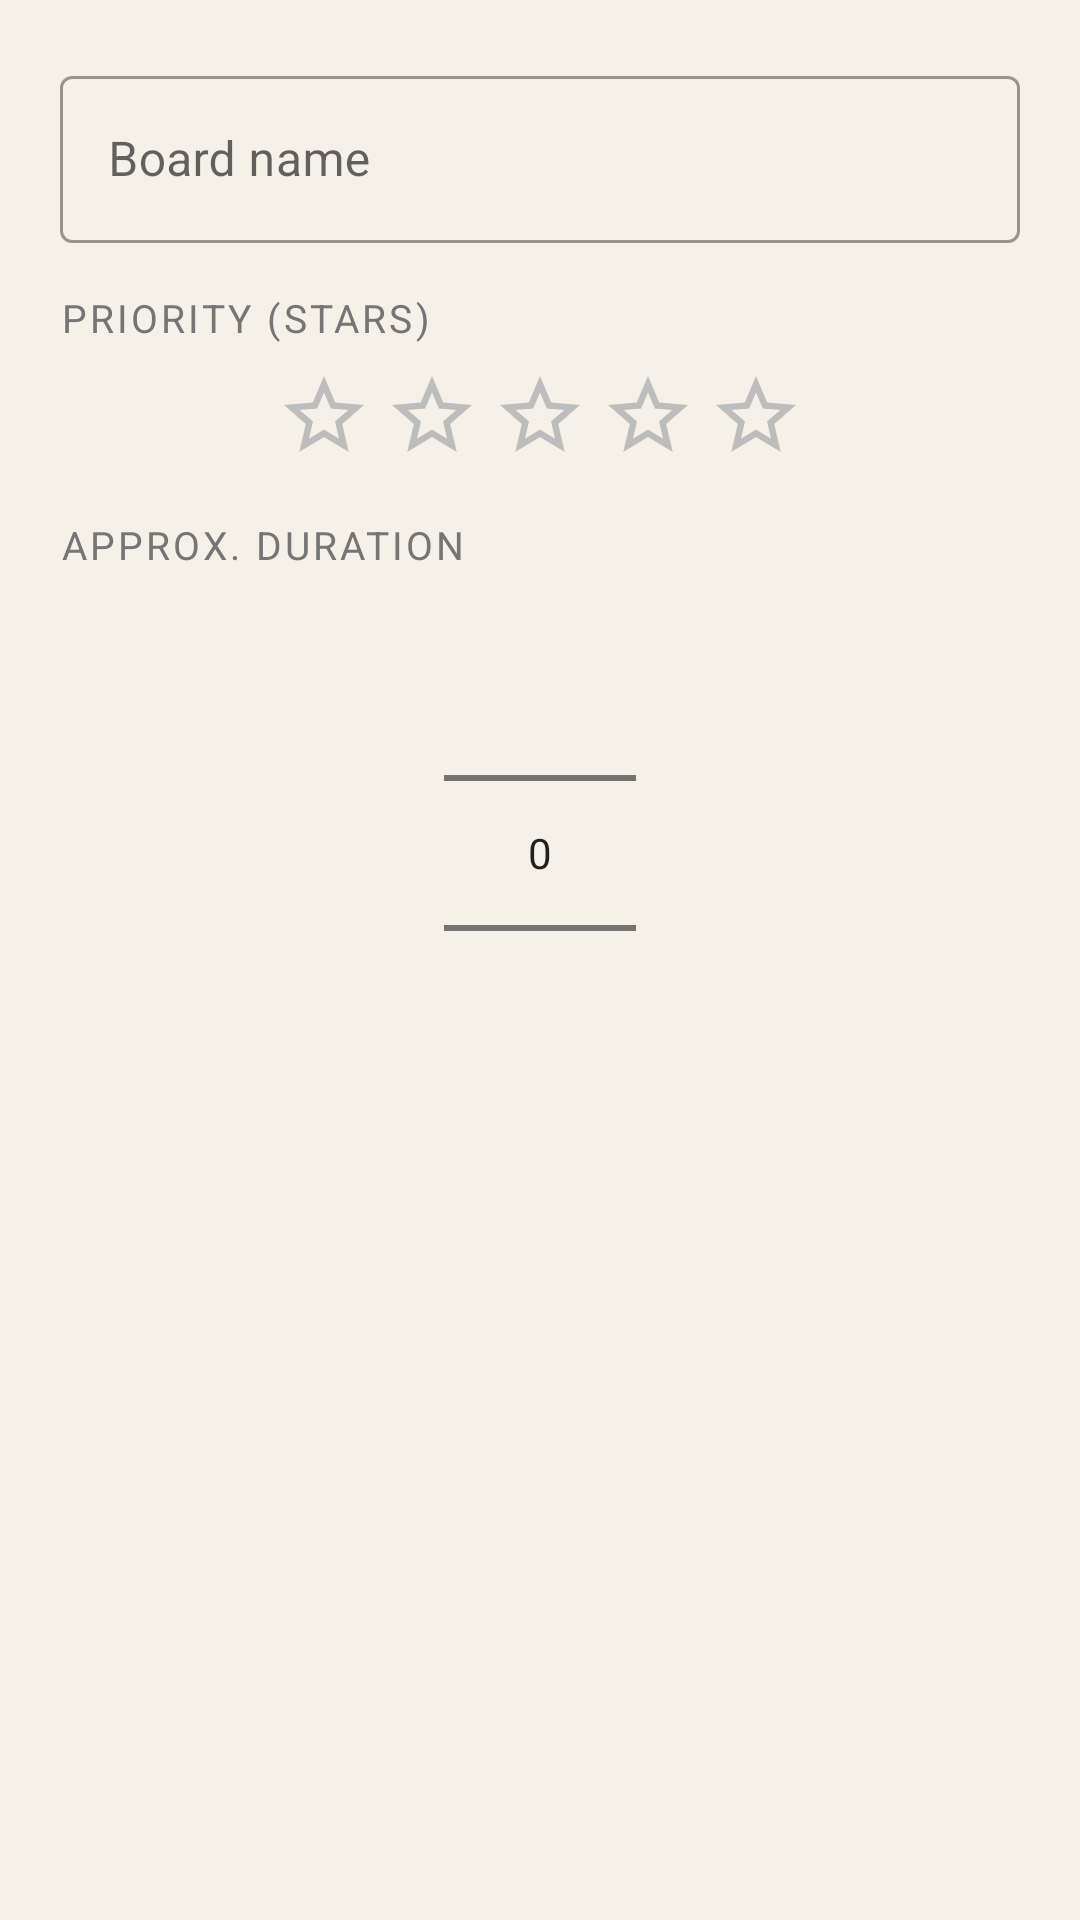

Where icons sit on this 1080*1920 app screen, as [x1, y1, x2, y2]:
Star 1: [285, 377, 363, 452]
Star 2: [393, 377, 471, 452]
Star 3: [501, 377, 579, 452]
Star 4: [609, 377, 687, 452]
Star 5: [717, 377, 795, 452]
